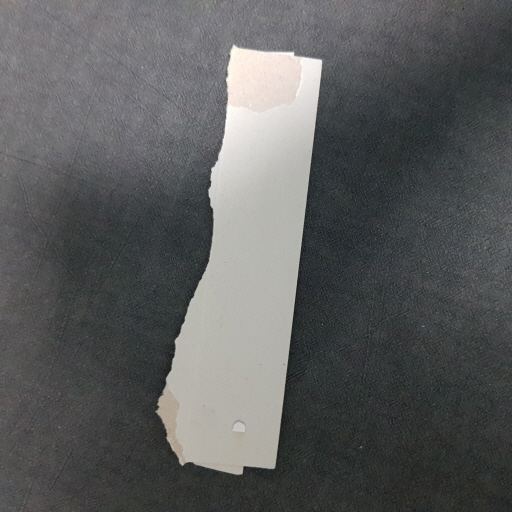Paper_2: (165, 40, 327, 484)
